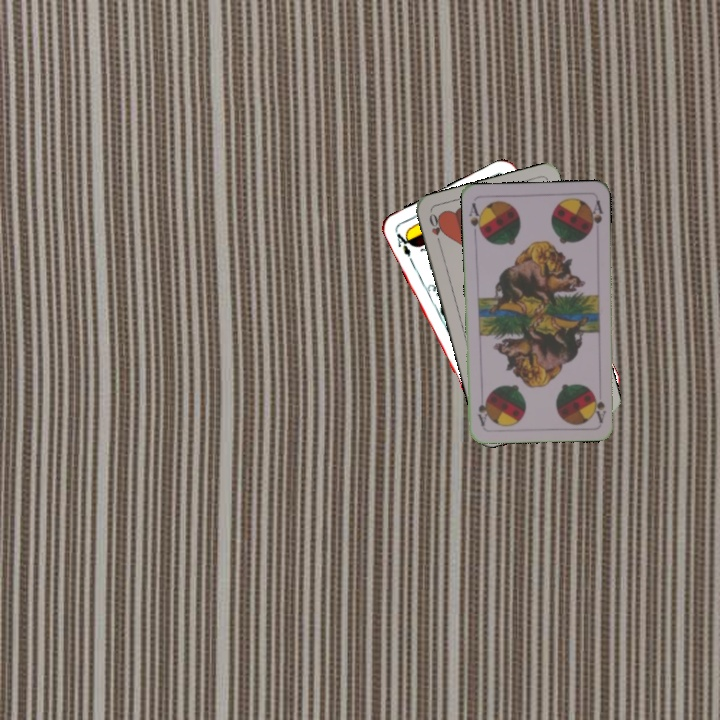EA: (392, 228, 415, 259)
HO: (425, 209, 445, 249)
SA: (465, 199, 485, 239), (591, 391, 608, 424)
